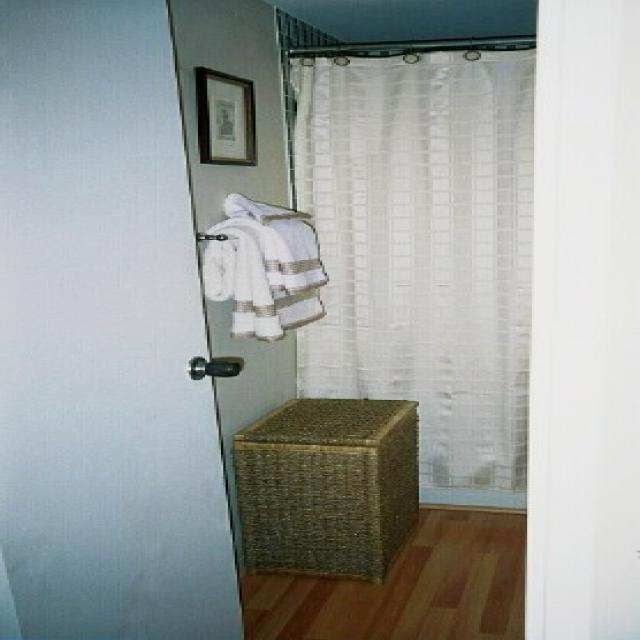basket crop: (237, 399, 426, 585)
bath tub: (424, 478, 527, 511)
ceiling beam: (262, 0, 534, 54)
curtain crop: (283, 41, 536, 488)
door bars: (2, 0, 242, 639)
floor -X: (239, 502, 516, 638)
picture crop: (196, 66, 253, 162)
rail crop: (276, 34, 534, 45)
towels: (200, 192, 327, 341)
wall clock: (168, 0, 311, 578), (274, 5, 355, 61)
